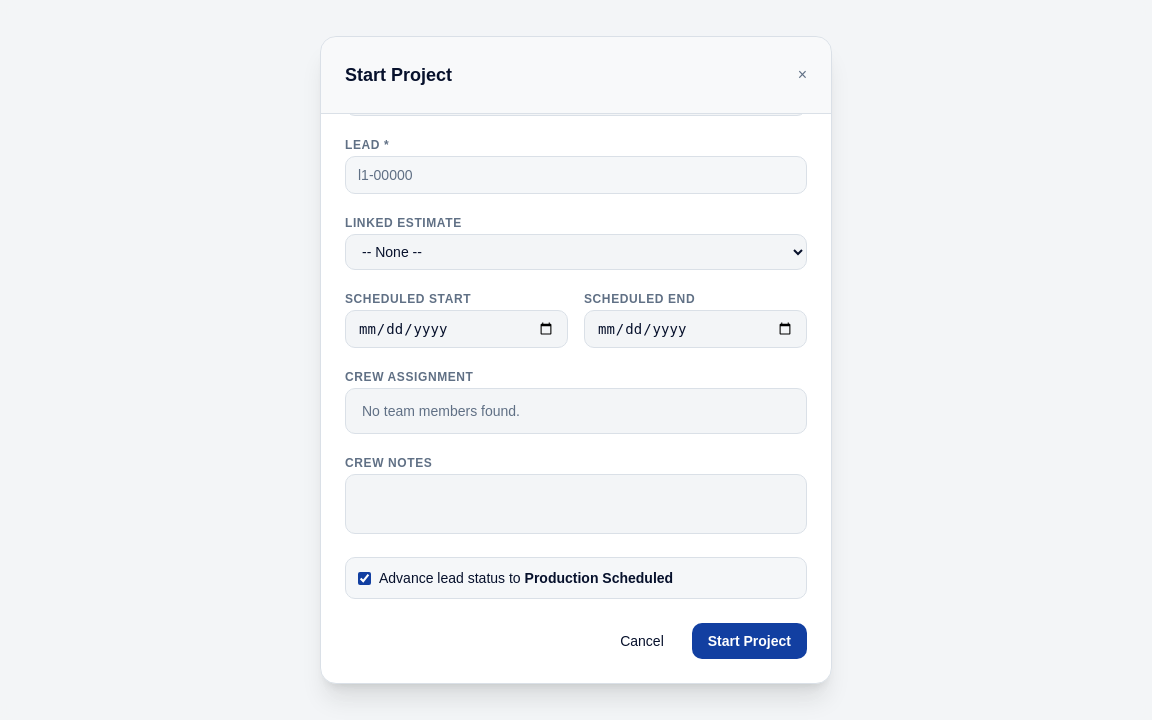
Test: Start Project flow › shows an error toast and keeps the modal open when project creation fails
(page scrolled)
Click the button "Start Project" at coordinates (749, 641), box [692,623,807,659]
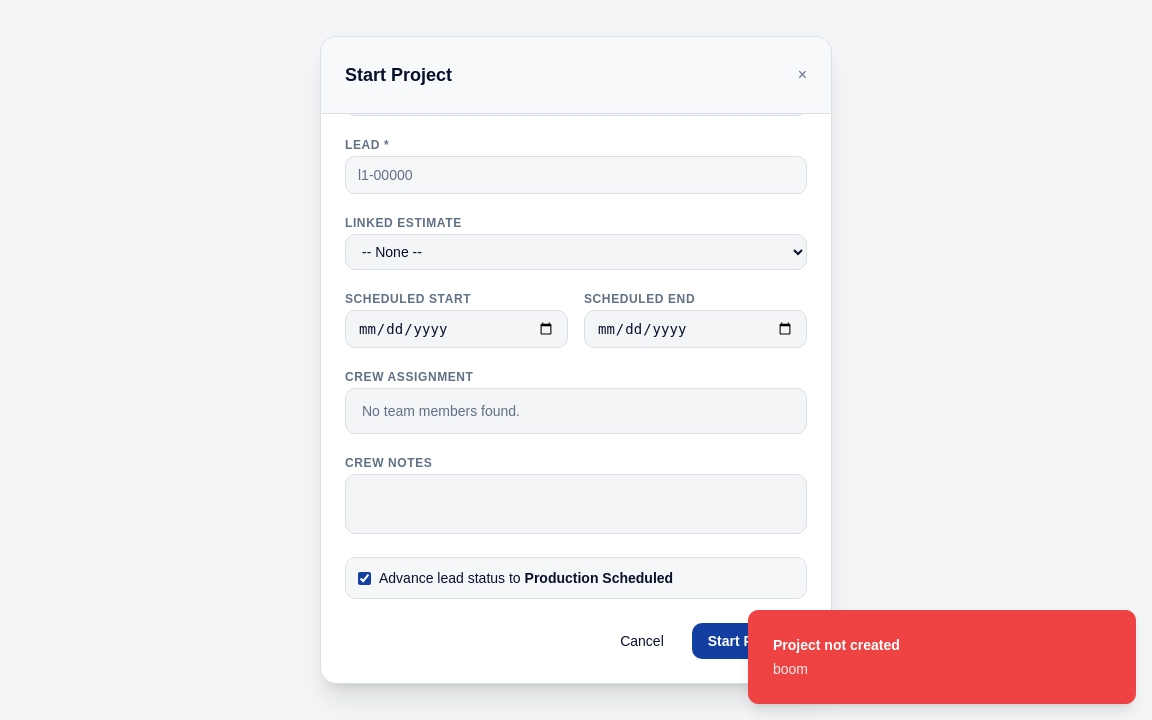
Expected: the text "Project not created" is shown, [773,635,900,655]
Expected: the text "boom" is shown, [773,661,808,677]
